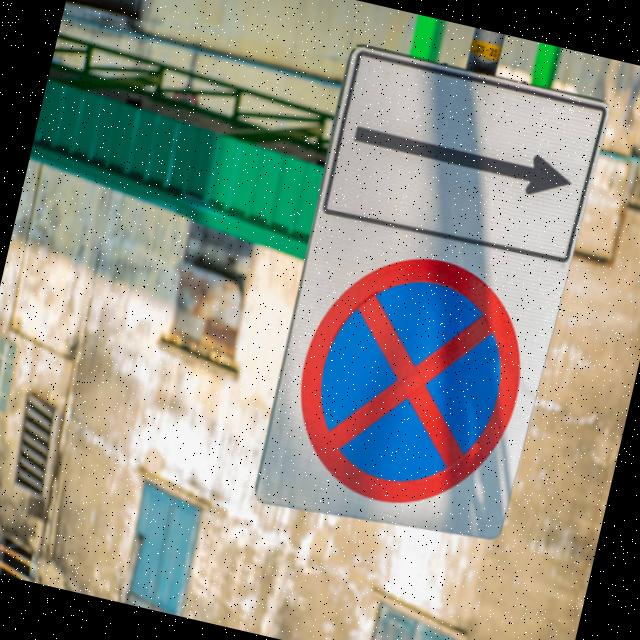no_parking: (270, 233, 548, 538)
